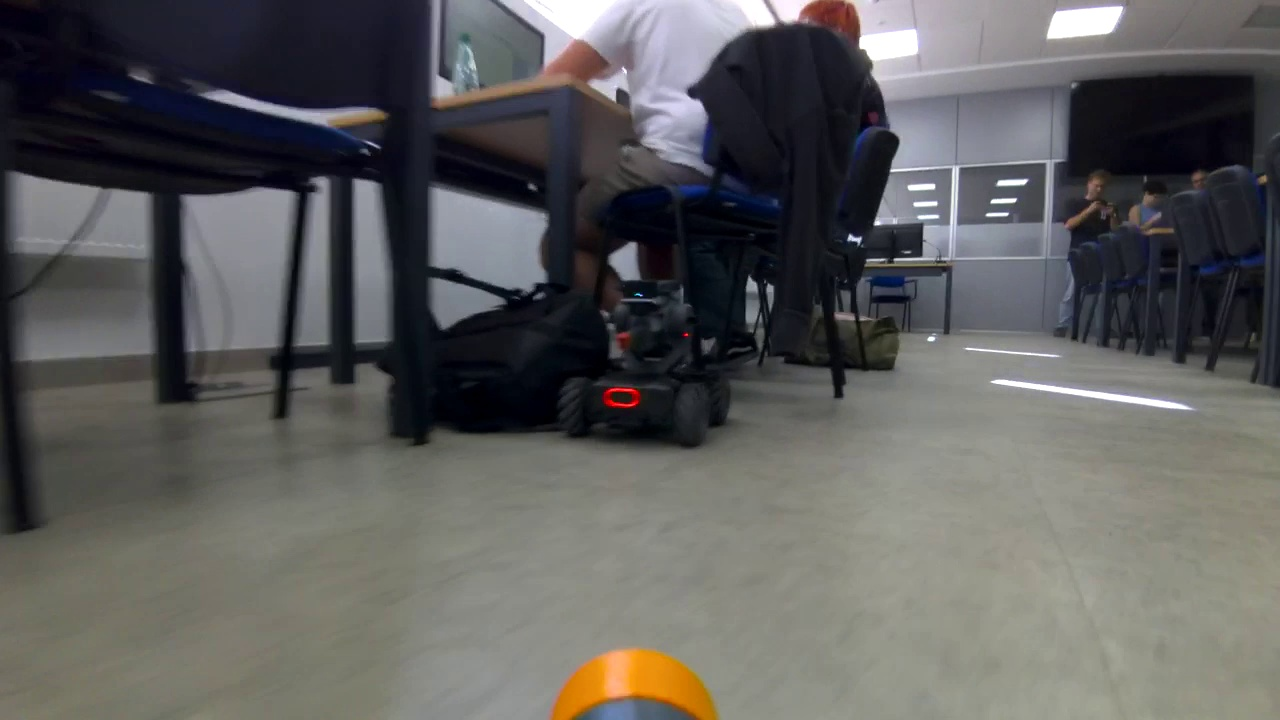robot: (560, 282, 733, 448)
